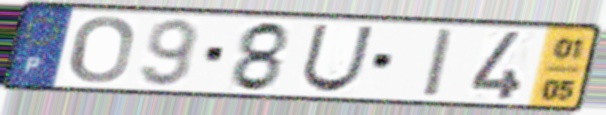4: (465, 29, 526, 103)
8: (229, 17, 293, 95)
9: (137, 16, 203, 89)
I: (420, 26, 458, 100)
O: (67, 14, 137, 85)
U: (297, 22, 378, 95)
